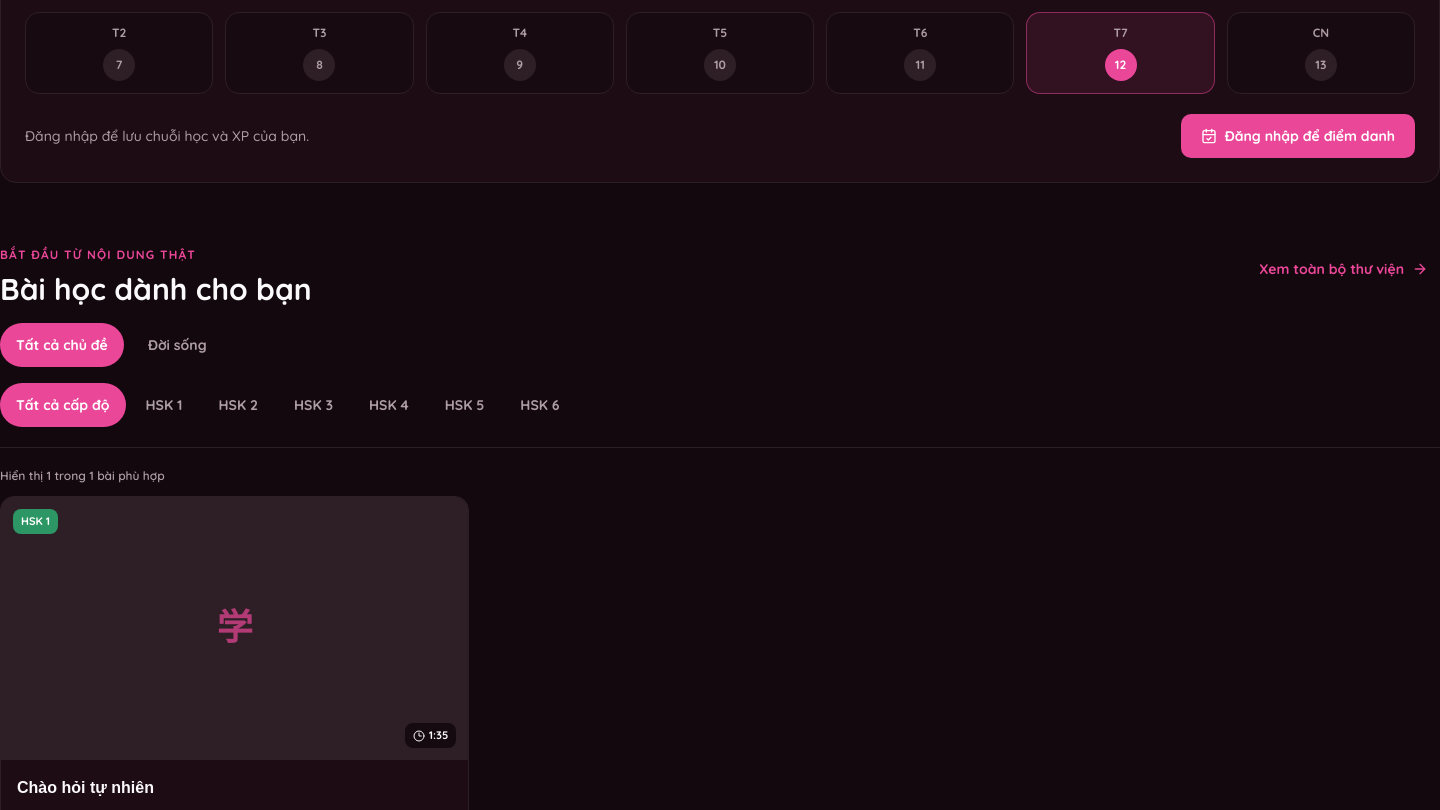
HomePage › filters lessons by HSK and opens only one FAQ panel at a time
(page scrolled)
Click the button "HSK 2".
click(238, 405)  # box [202,383,274,427]
(page scrolled)
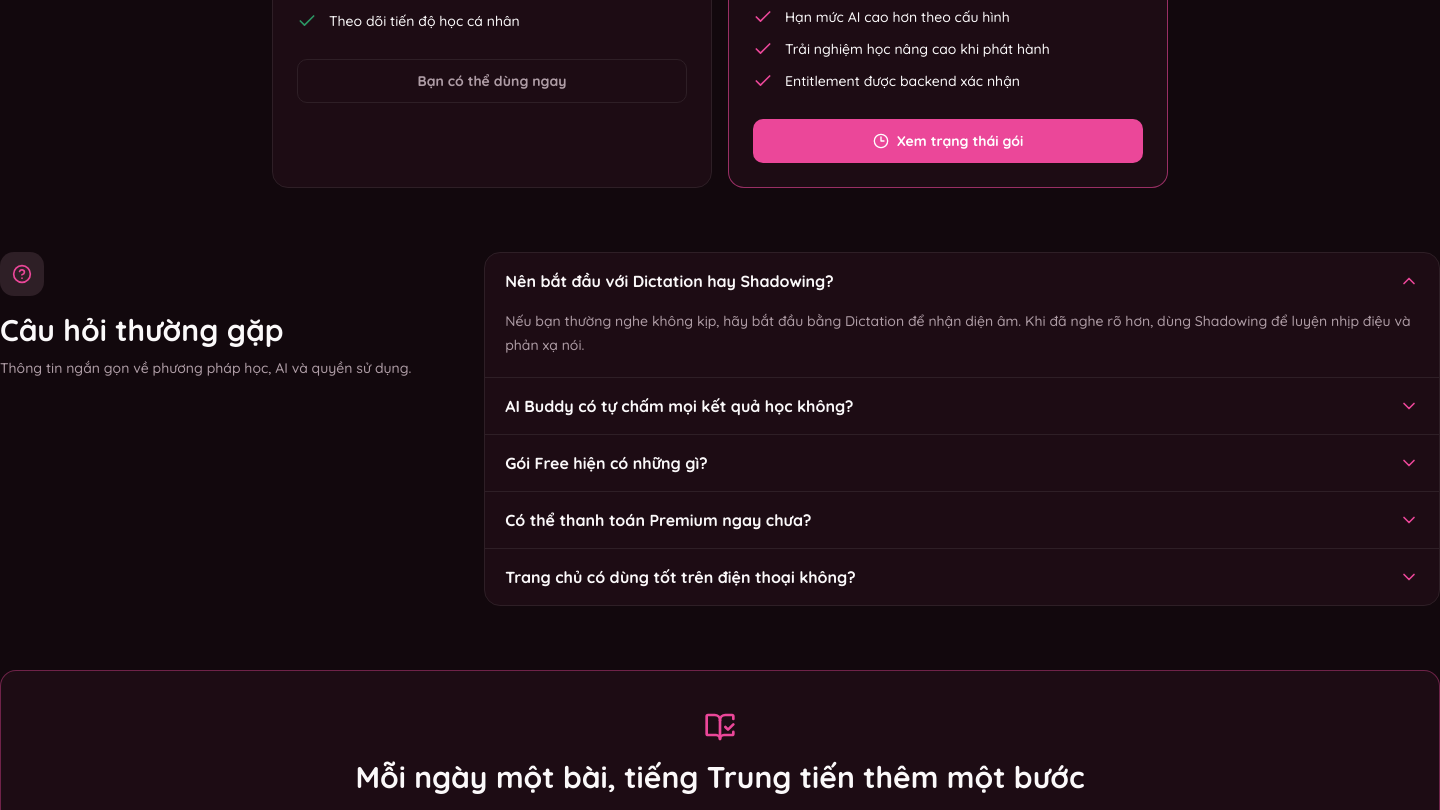
Click the button "AI Buddy có tự chấm mọi kết quả học không?".
click(679, 406)  # box [485,378,1439,434]
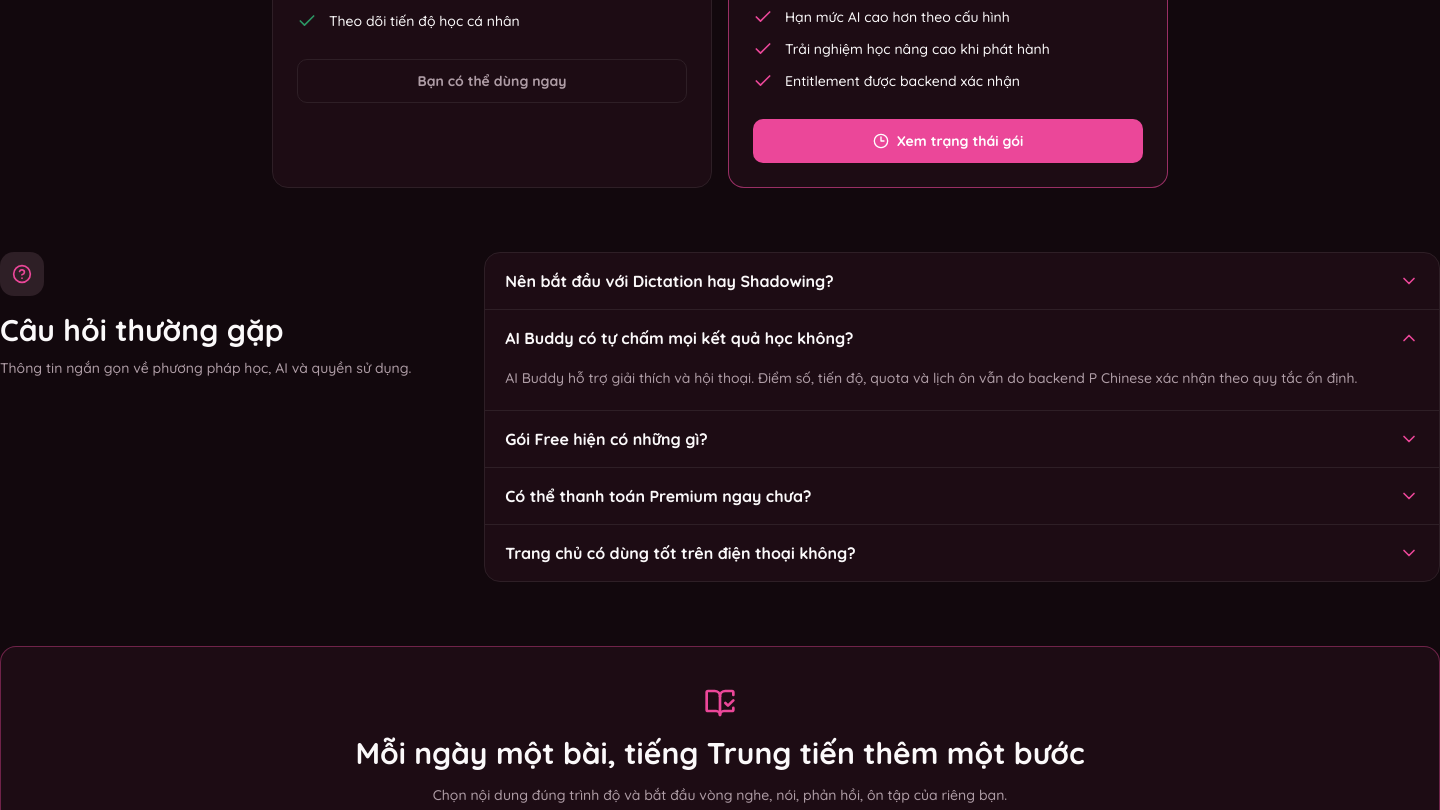
Expected: the text "Điểm số, tiến độ, quota" is shown, [505,369,1357,387]
Expected: the text "Nếu bạn thường nghe không kịp" is gone
